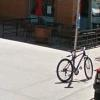Bicycle: (54, 44, 99, 93)
